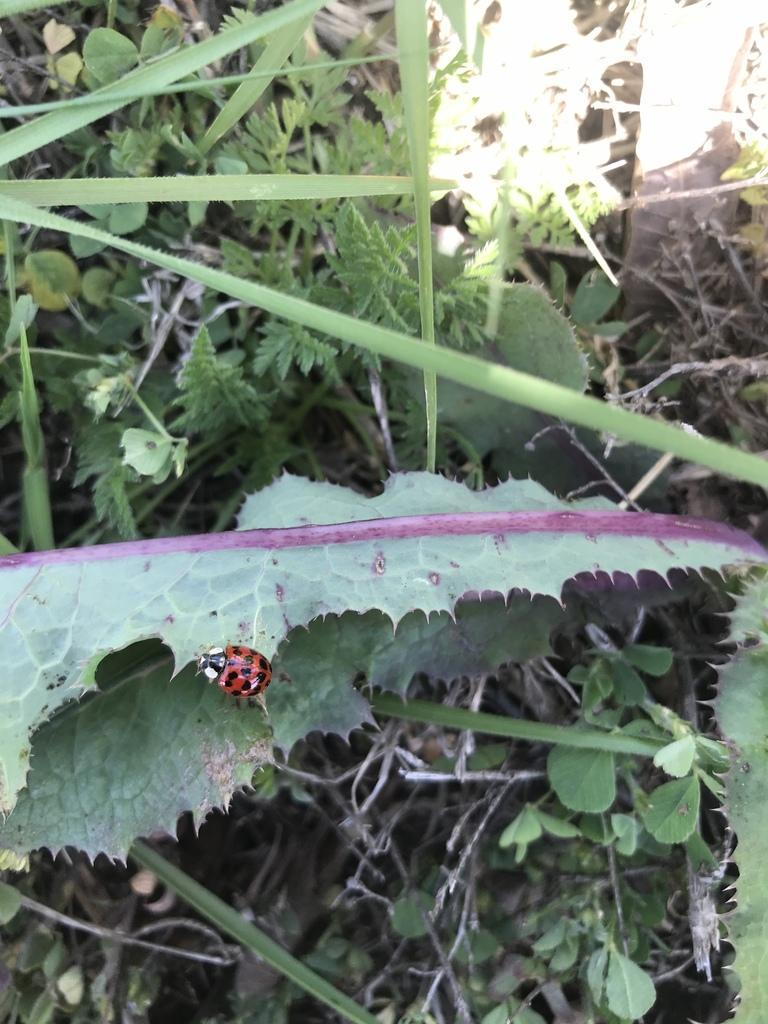ladybug: (191, 639, 281, 706)
